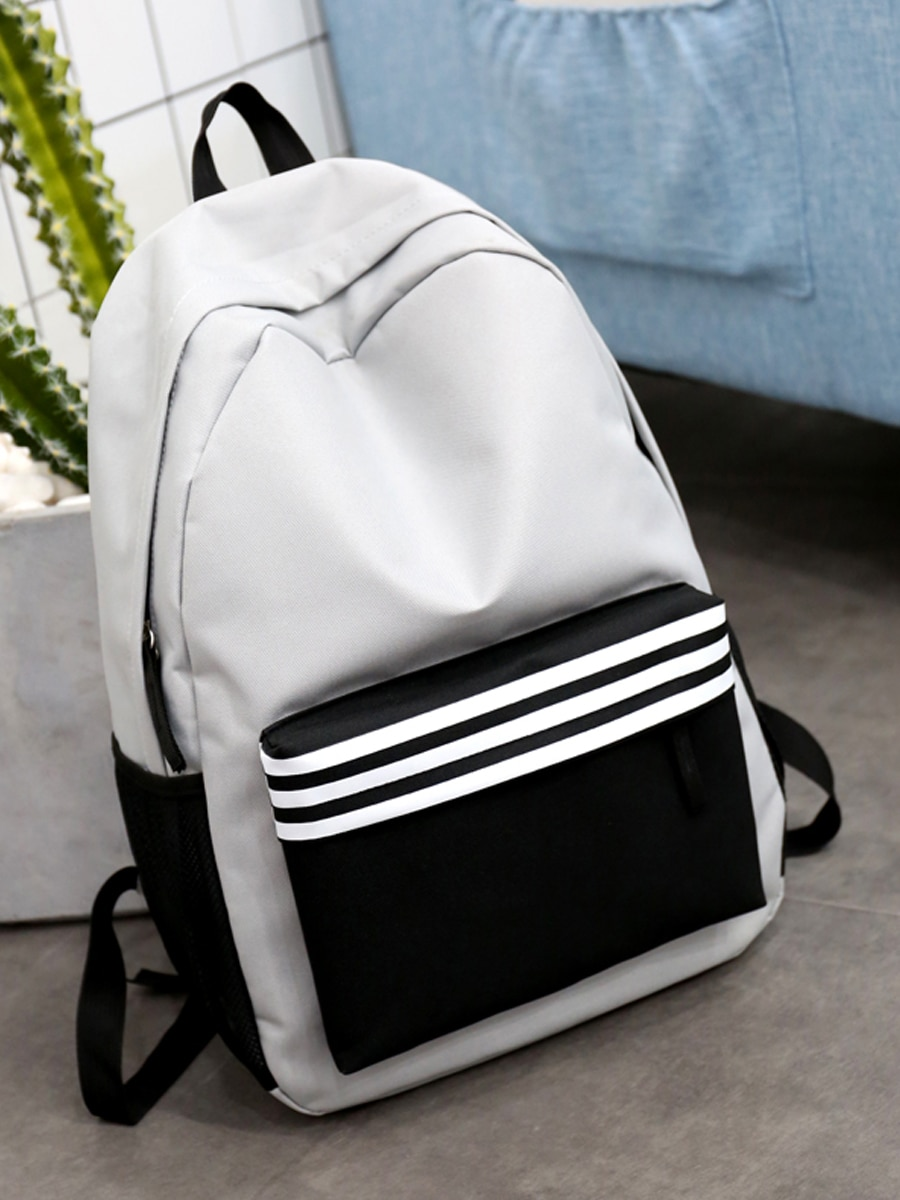Men's Backpacks: (70, 81, 854, 1139)
